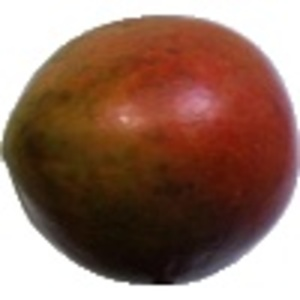manga: (1, 14, 300, 285)
